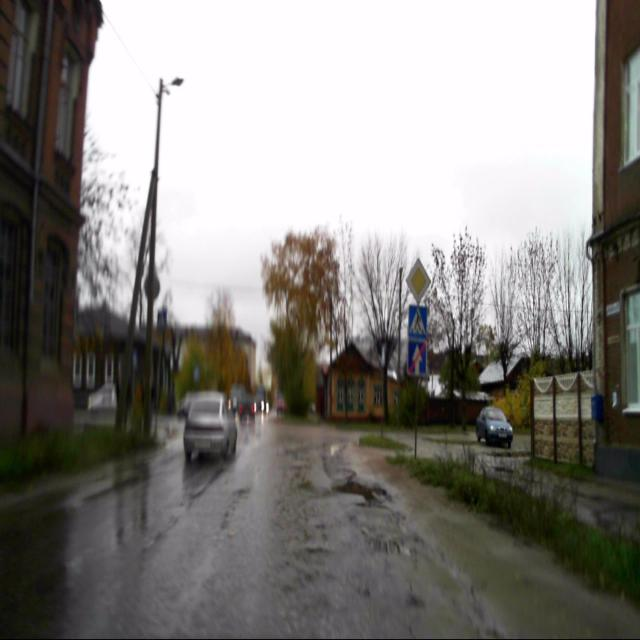road sign: (404, 259, 431, 305), (407, 306, 427, 340), (407, 342, 426, 377)
